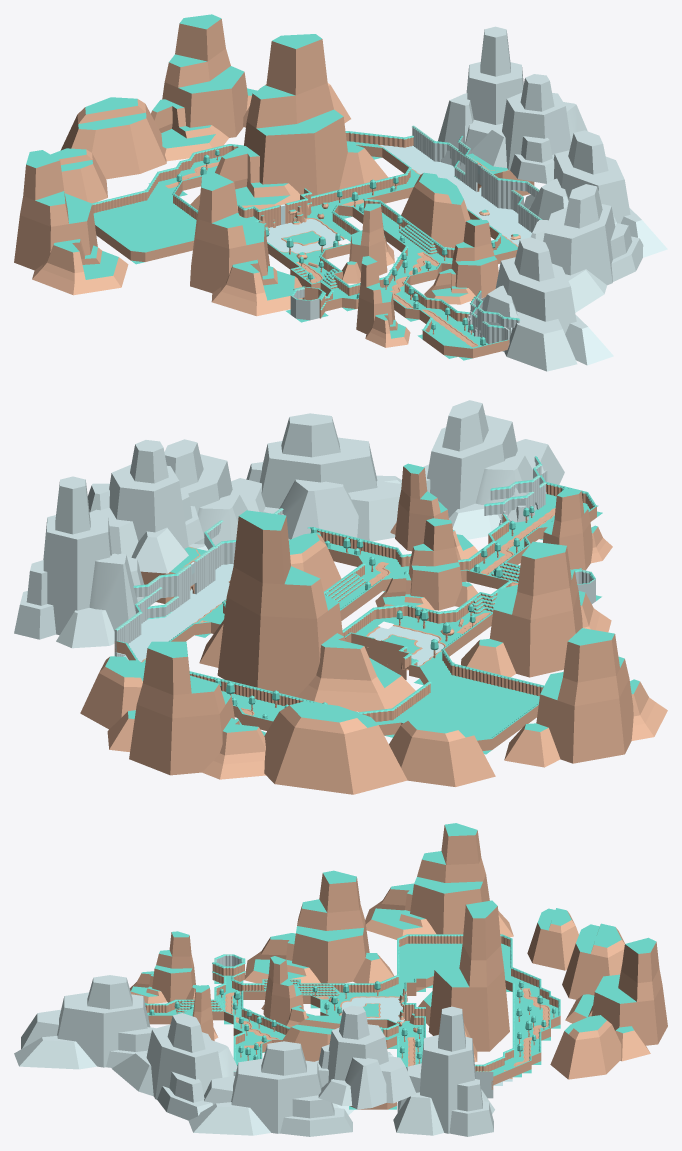
File: area_202501301422.fbx
The picture shows the model from 3 angles, top to bottom: view 1: azimuth 30°, elevation 25°; view 2: azimuth 150°, elevation 25°; view 3: azimuth 270°, elevation 25°; orthographic projection. The views are drawn at different scales.
Visible parts, largest first — view 1: tree_default56; view 2: tree_default56; view 3: tree_default56.
Part boxes in pixels (x1=…): tree_default56: x1=14, y1=14, x2=667, y2=371; tree_default56: x1=14, y1=400, x2=667, y2=794; tree_default56: x1=14, y1=823, x2=667, y2=1136.
Size of the model in its own units: 575 by 155 by 680.
